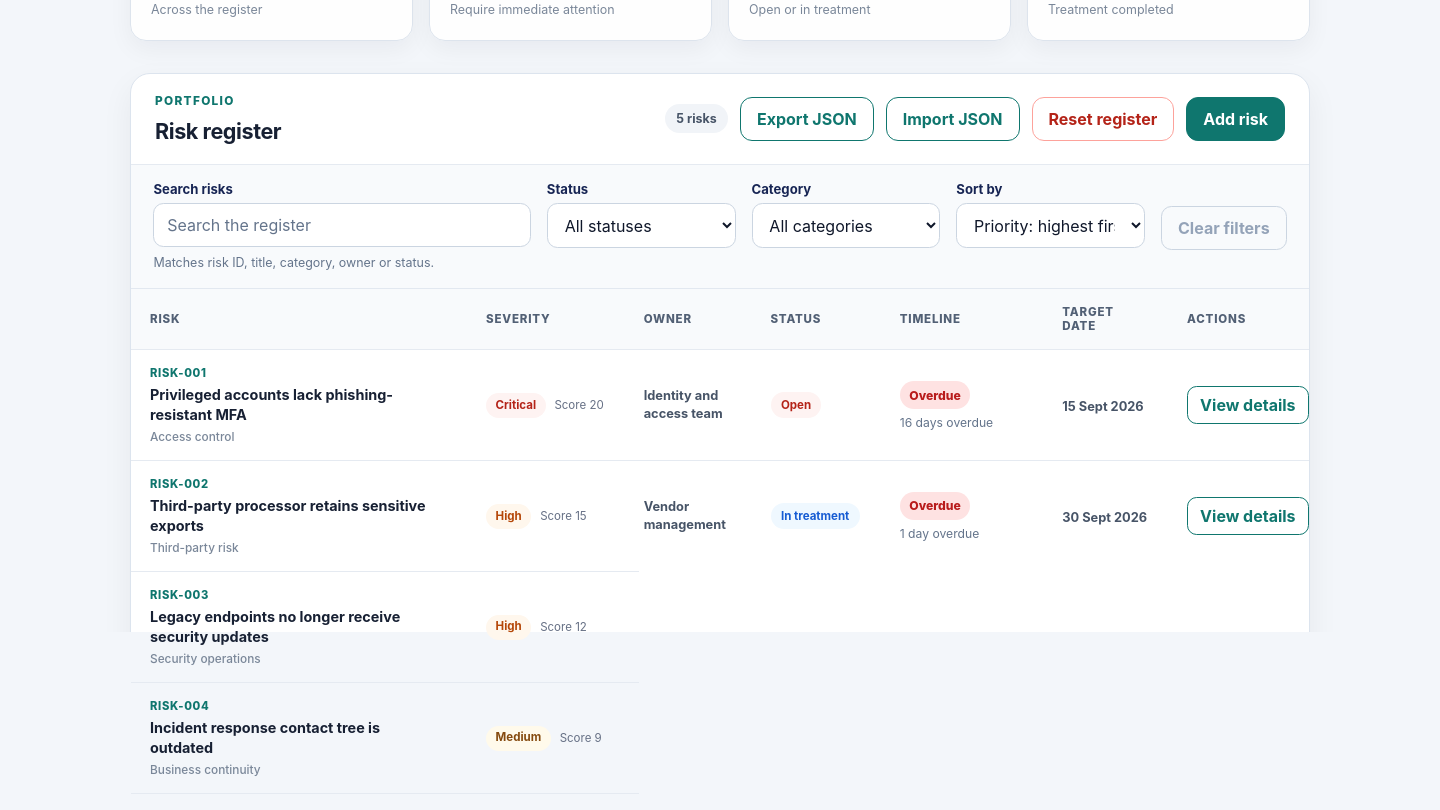
Test: App risk deletion › deletes and persists a risk after explicit confirmation
The image size is (1440, 810).
(page scrolled)
Click the button "View details" in the row of "Identity and access team" at [1248, 405], box [1187,386,1309,424]
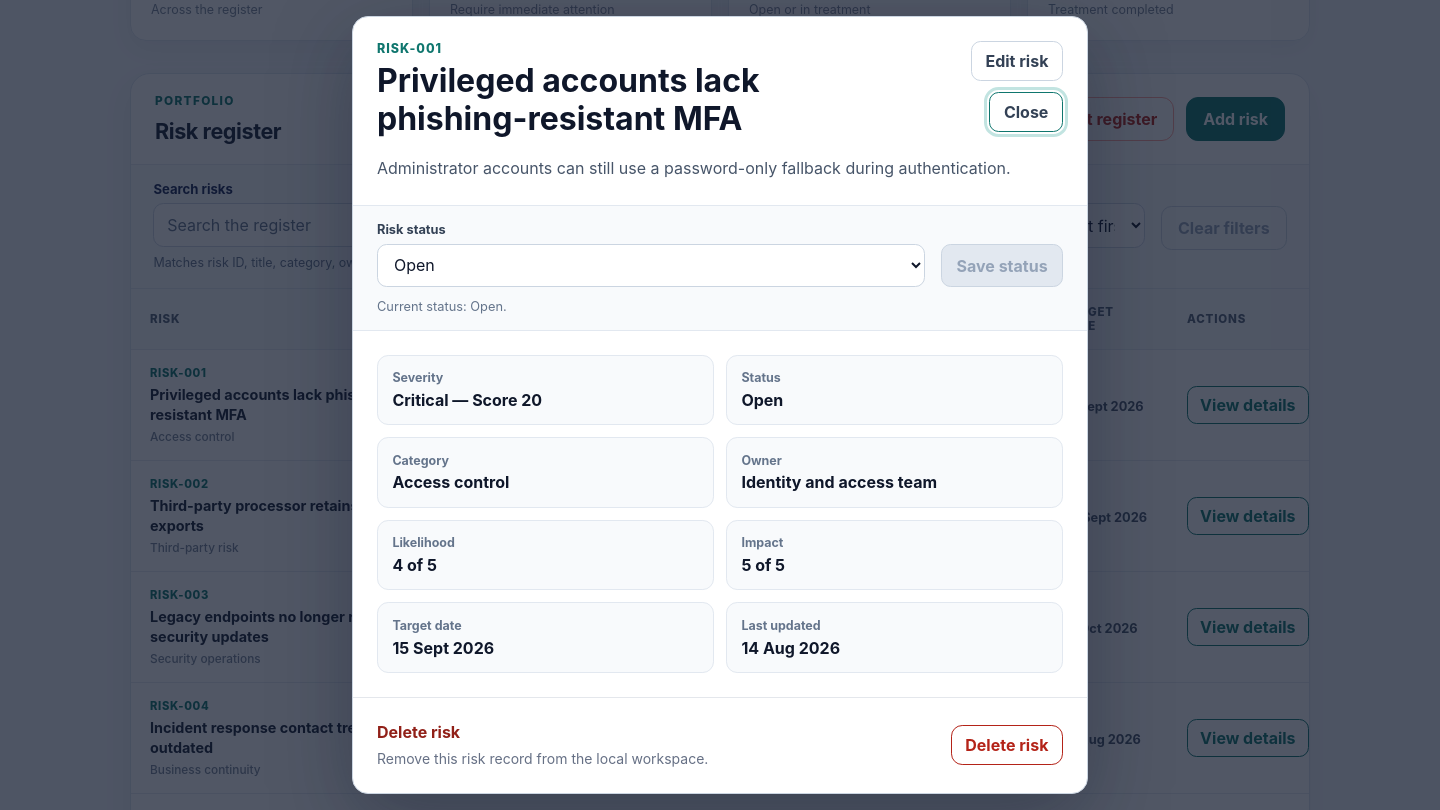
Click the button "Delete risk" at [1007, 745], box [951,725,1063,765]
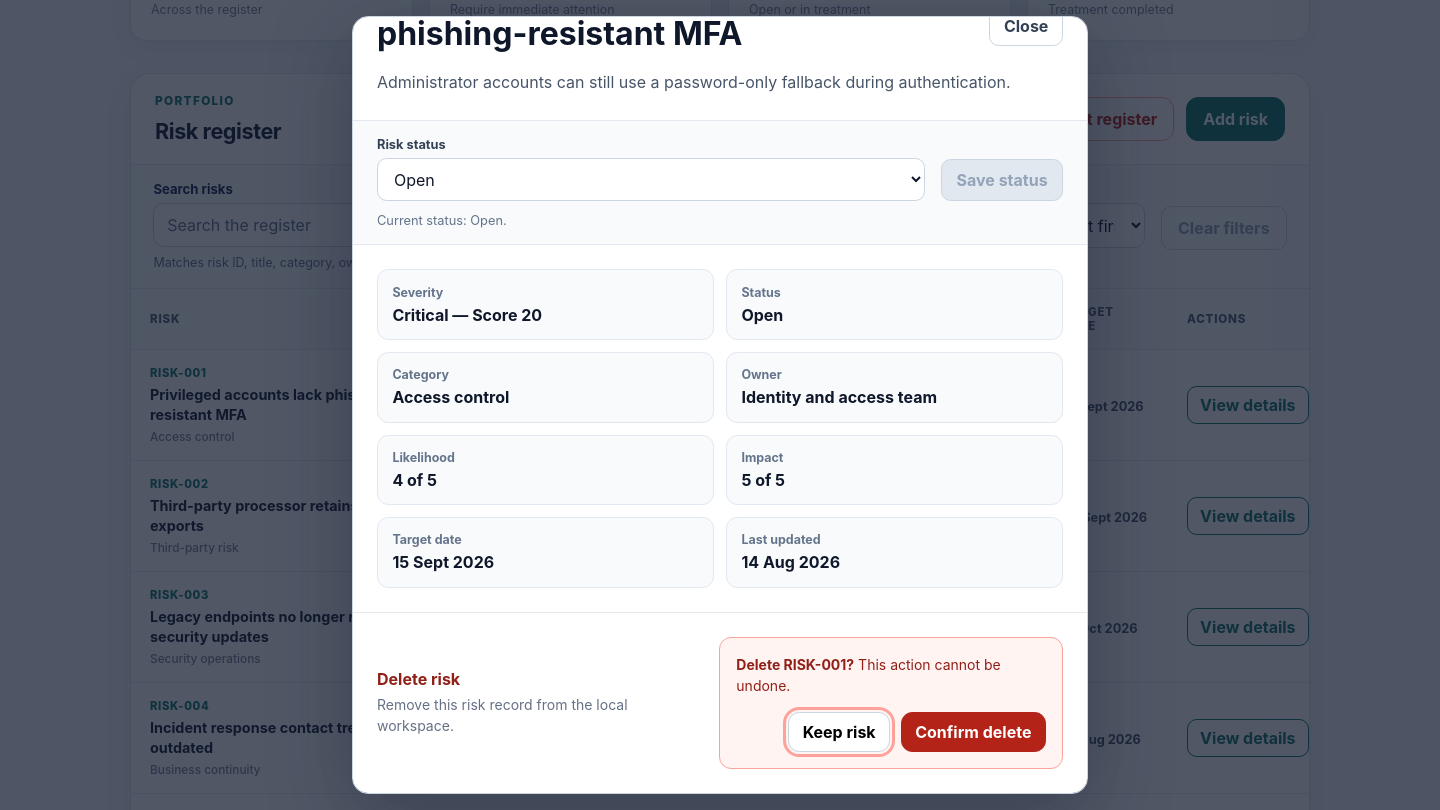
Click the button with aria-label "confirm delete risk-001" at [973, 732], box [901,712,1046,752]
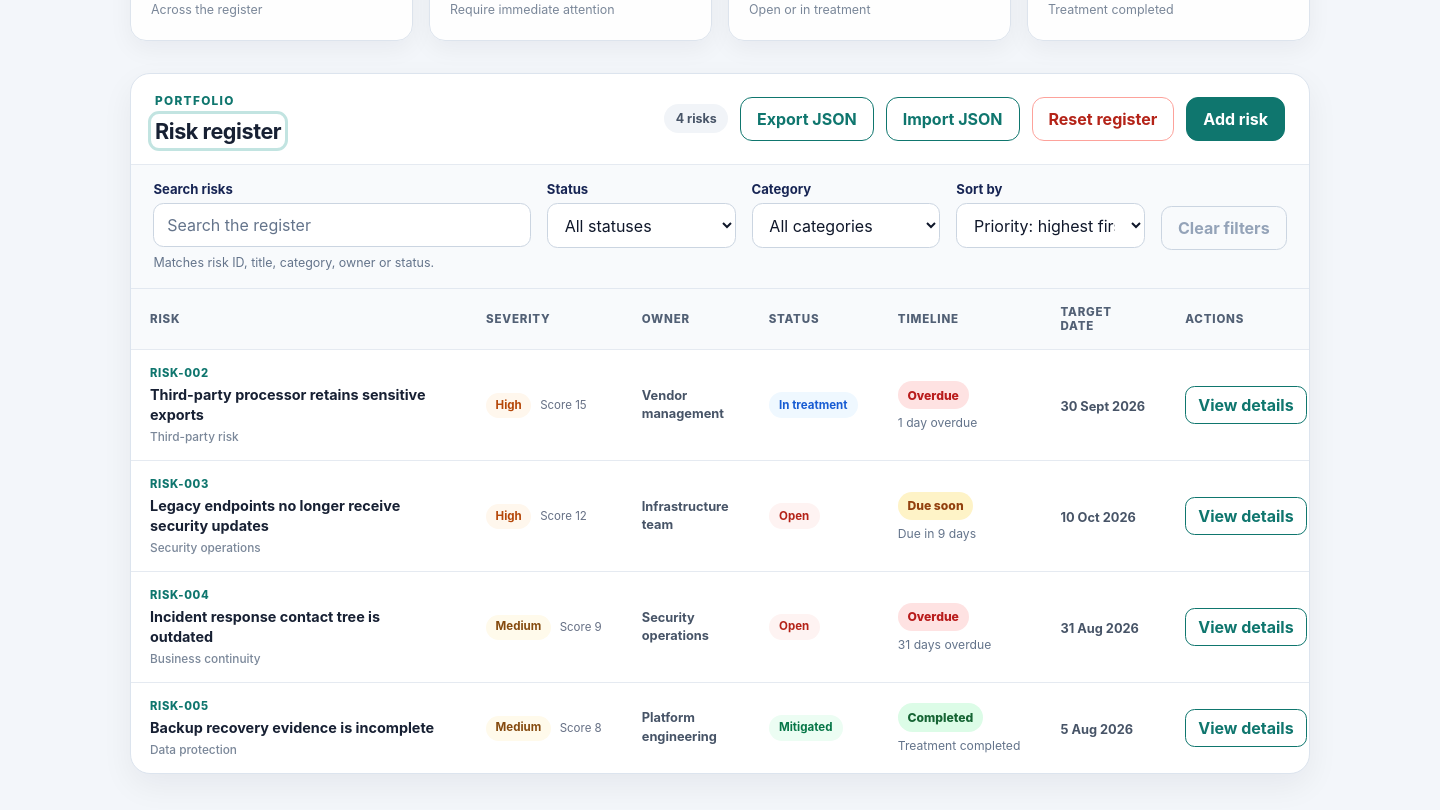
Check: the dialog is gone
Check: the text "RISK-001" is gone
Check: the text "4 risks" is shown, box [664,104,728,133]
